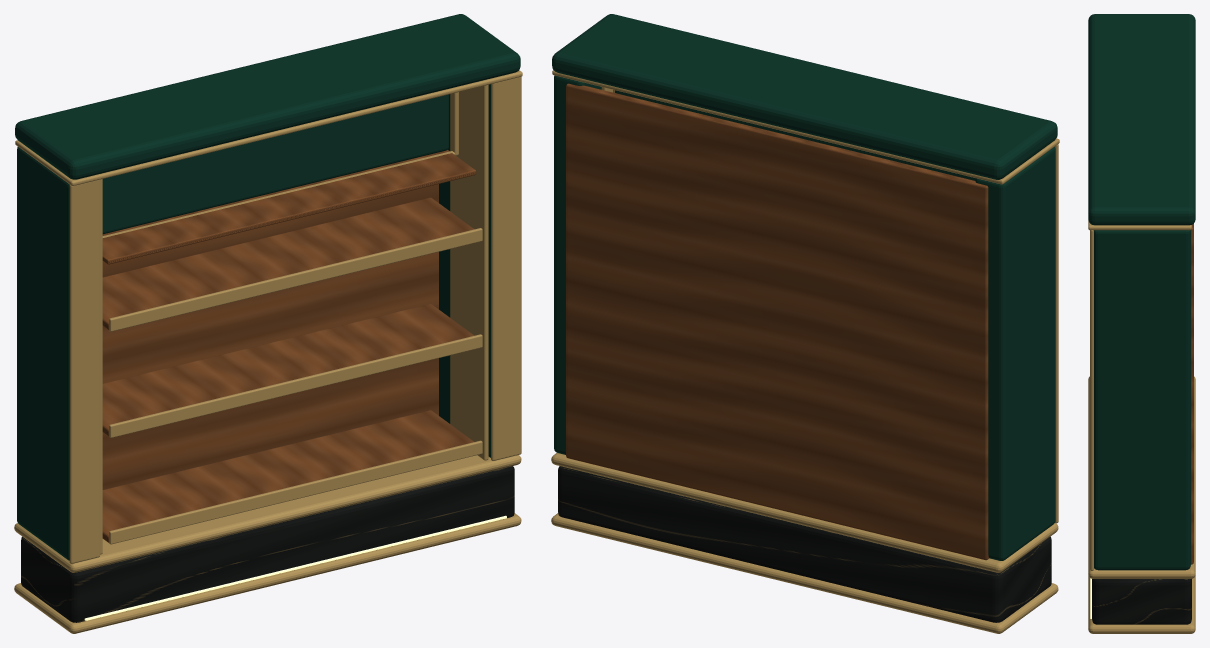
File: edited.glb
3 renders of one model, left to right at view 1: azimuth 30°, elevation 25°; view 2: azimuth 150°, elevation 25°; view 3: azimuth 270°, elevation 25°, orthographic. The views are drawn at different scales.
Parts seen in each view (by area): view 1: cabinet_back, cabinet_crown, cabinet_stone_base, cabinet_left_pillar, brand_header_panel, shelf_1, shelf_2, shelf_3, trim_left_front, trim_right_front, trim_right_inner, brand_header_light_canopy (+10 smaller); view 2: cabinet_back, cabinet_crown, cabinet_left_pillar, cabinet_stone_base, trim_base_plinth, trim_base_top, cabinet_right_pillar, trim_crown_lip, trim_left_front, brand_header_panel; view 3: cabinet_right_pillar, cabinet_crown, cabinet_stone_base, trim_base_top, trim_base_plinth, trim_right_front, cabinet_back, trim_crown_lip.
Part boxes in pixels (<box>): cabinet_back: <box>102,184,438,489</box>; cabinet_crown: <box>15,14,520,179</box>; cabinet_stone_base: <box>21,466,514,622</box>; cabinet_left_pillar: <box>17,147,69,560</box>; brand_header_panel: <box>102,94,448,234</box>; shelf_1: <box>102,410,473,542</box>; shelf_2: <box>102,304,474,436</box>; shelf_3: <box>102,197,473,329</box>; trim_left_front: <box>69,179,99,563</box>; trim_right_front: <box>491,76,521,460</box>; trim_right_inner: <box>450,85,488,460</box>; brand_header_light_canopy: <box>102,150,476,264</box>; cabinet_back: <box>566,83,989,560</box>; cabinet_crown: <box>552,14,1057,179</box>; cabinet_left_pillar: <box>975,147,1055,560</box>; cabinet_stone_base: <box>558,466,1051,622</box>; trim_base_plinth: <box>551,513,1058,633</box>; trim_base_top: <box>551,452,1058,572</box>; cabinet_right_pillar: <box>554,75,601,454</box>; trim_crown_lip: <box>552,70,1059,184</box>; trim_left_front: <box>1055,144,1058,523</box>; brand_header_panel: <box>615,90,975,180</box>; cabinet_right_pillar: <box>1094,230,1190,570</box>; cabinet_crown: <box>1088,14,1195,225</box>; cabinet_stone_base: <box>1092,579,1191,624</box>; trim_base_top: <box>1088,376,1195,578</box>; trim_base_plinth: <box>1088,575,1195,633</box>; trim_right_front: <box>1090,230,1093,570</box>; cabinet_back: <box>1191,223,1193,564</box>; trim_crown_lip: <box>1088,220,1191,230</box>.
Size of the model in its own units: 2.4 by 2.4 by 0.55.
5 materials, 2 textured.
